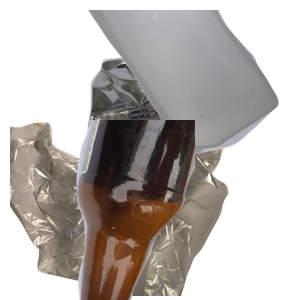glass: (60, 120, 300, 300)
metal: (85, 48, 300, 228)
plastic: (84, 10, 300, 157)
trash: (10, 120, 231, 300)
